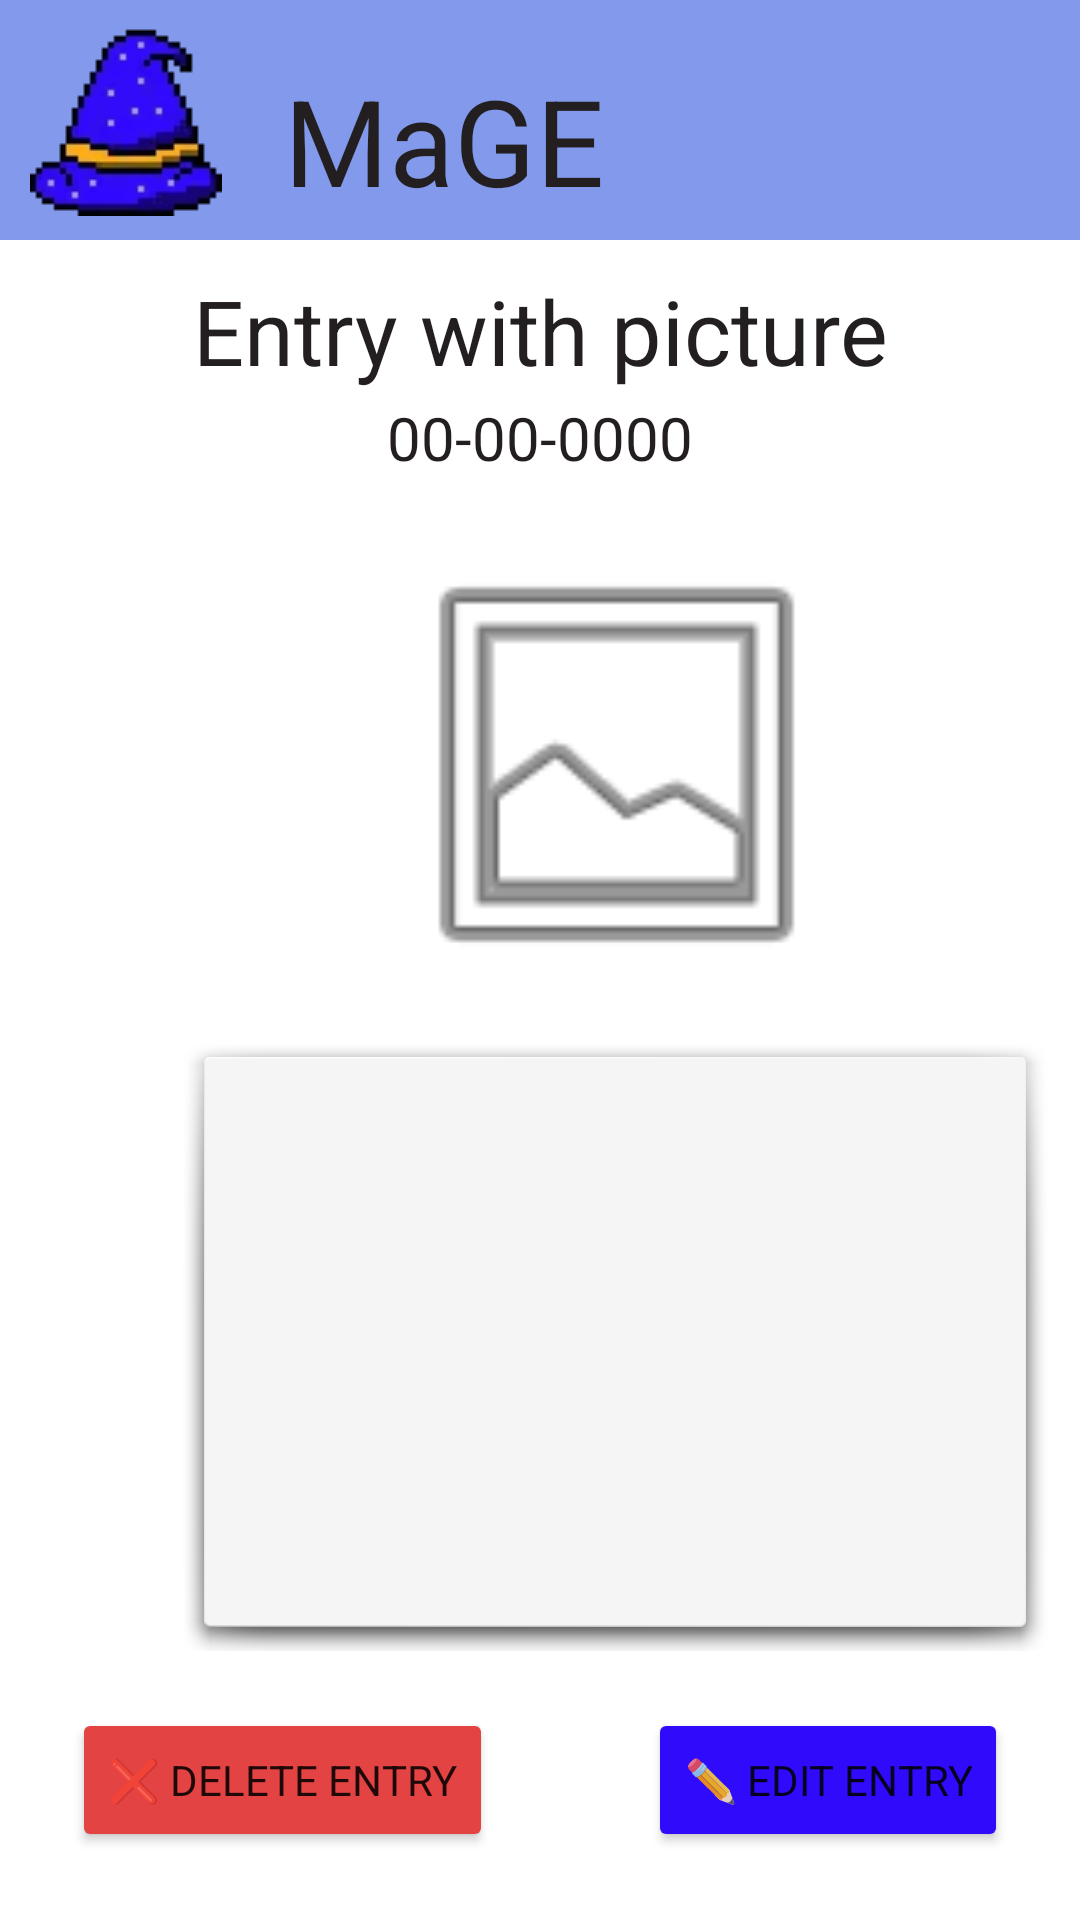

Screen size 1080px x 1920px. Icon name, then its center in pixels as (x=x, y=y):
gallery: (x=616, y=764)
